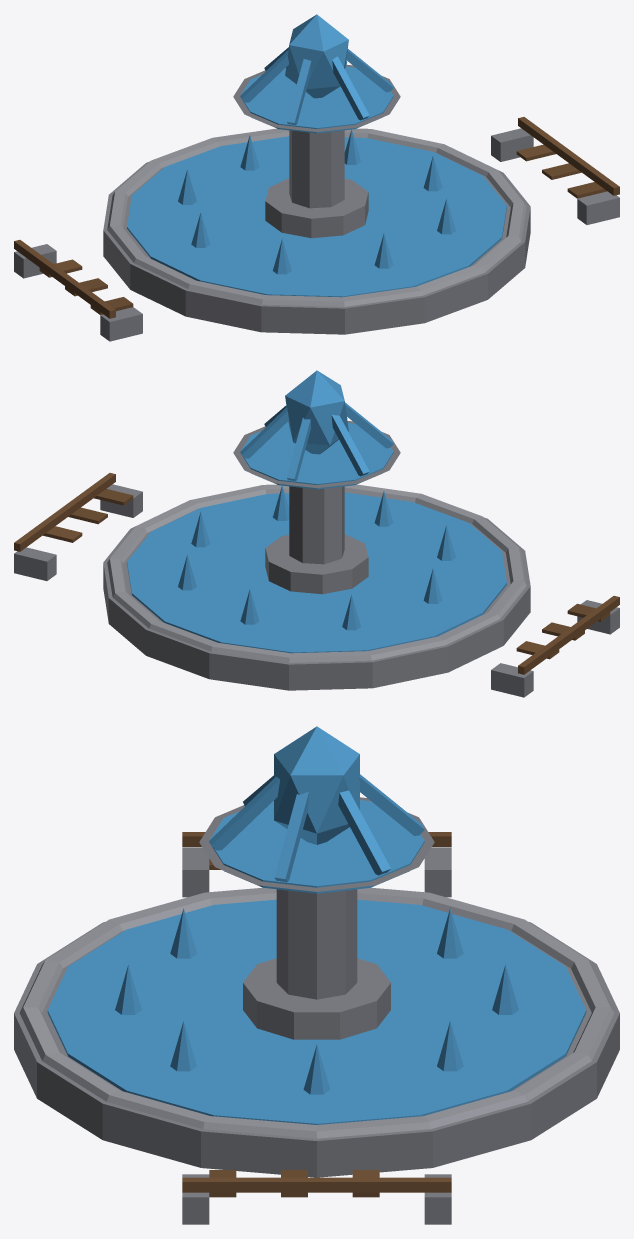
The model's file is Decor_HeroHQ_Fountain.fbx.
The picture shows the model from 3 angles, top to bottom: view 1: azimuth 30°, elevation 25°; view 2: azimuth 150°, elevation 25°; view 3: azimuth 270°, elevation 25°; orthographic projection. The views are drawn at different scales.
Visible parts, largest first — view 1: Fountain_Body; view 2: Fountain_Body; view 3: Fountain_Body.
Part boxes in pixels (left/top/right/bottom): Fountain_Body: left=14, top=14, right=619, bottom=341; Fountain_Body: left=14, top=370, right=619, bottom=697; Fountain_Body: left=14, top=726, right=619, bottom=1224.
Bounding box in the file's own units: 24.6 × 10.6 × 18.
